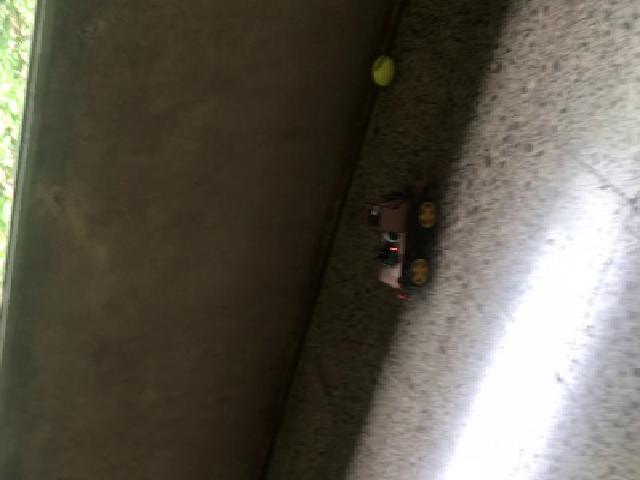Ball: (371, 55, 394, 85)
Robot: (363, 172, 438, 288)
